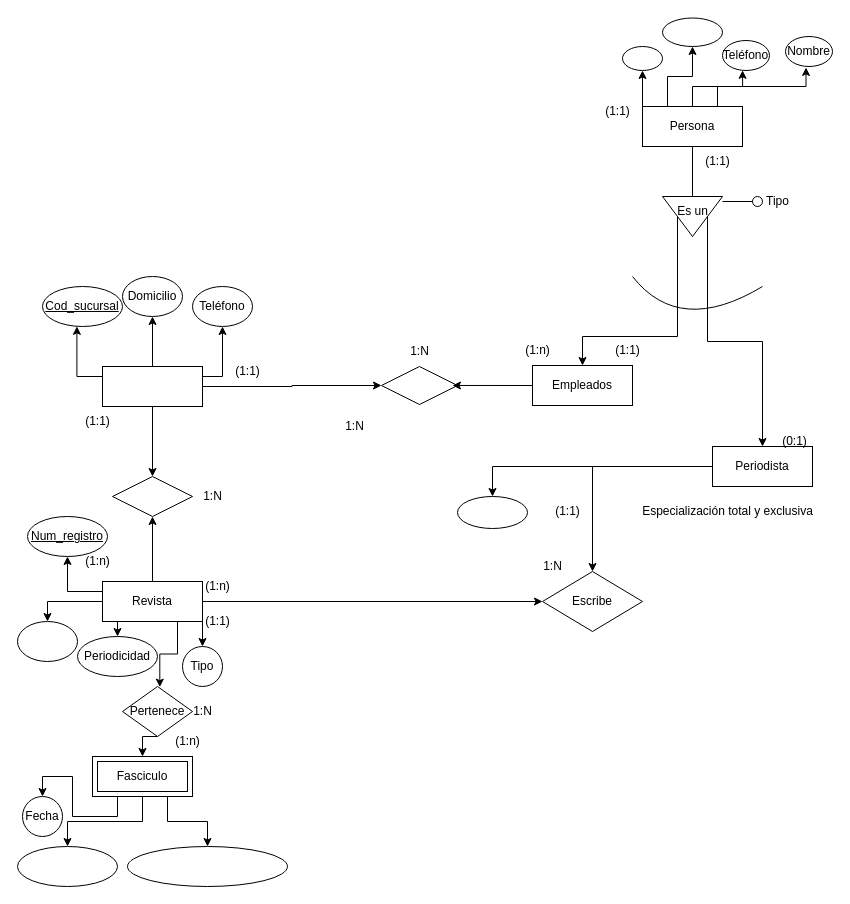
This 850x904 diagram has some shape labels left out. Each missing label, with the centre of its shape:
"Dirección" belongs at point (692, 31).
"DNI" belongs at point (642, 58).
"Especialidad" belongs at point (492, 512).
"Num_ejemplares_vendidos" belongs at point (207, 866).
"Num_pagina" belongs at point (67, 866).
"Publica" belongs at point (152, 496).
"Sucursal" belongs at point (152, 386).
"Trabaja" belongs at point (419, 385).
"Título" belongs at point (47, 641).
